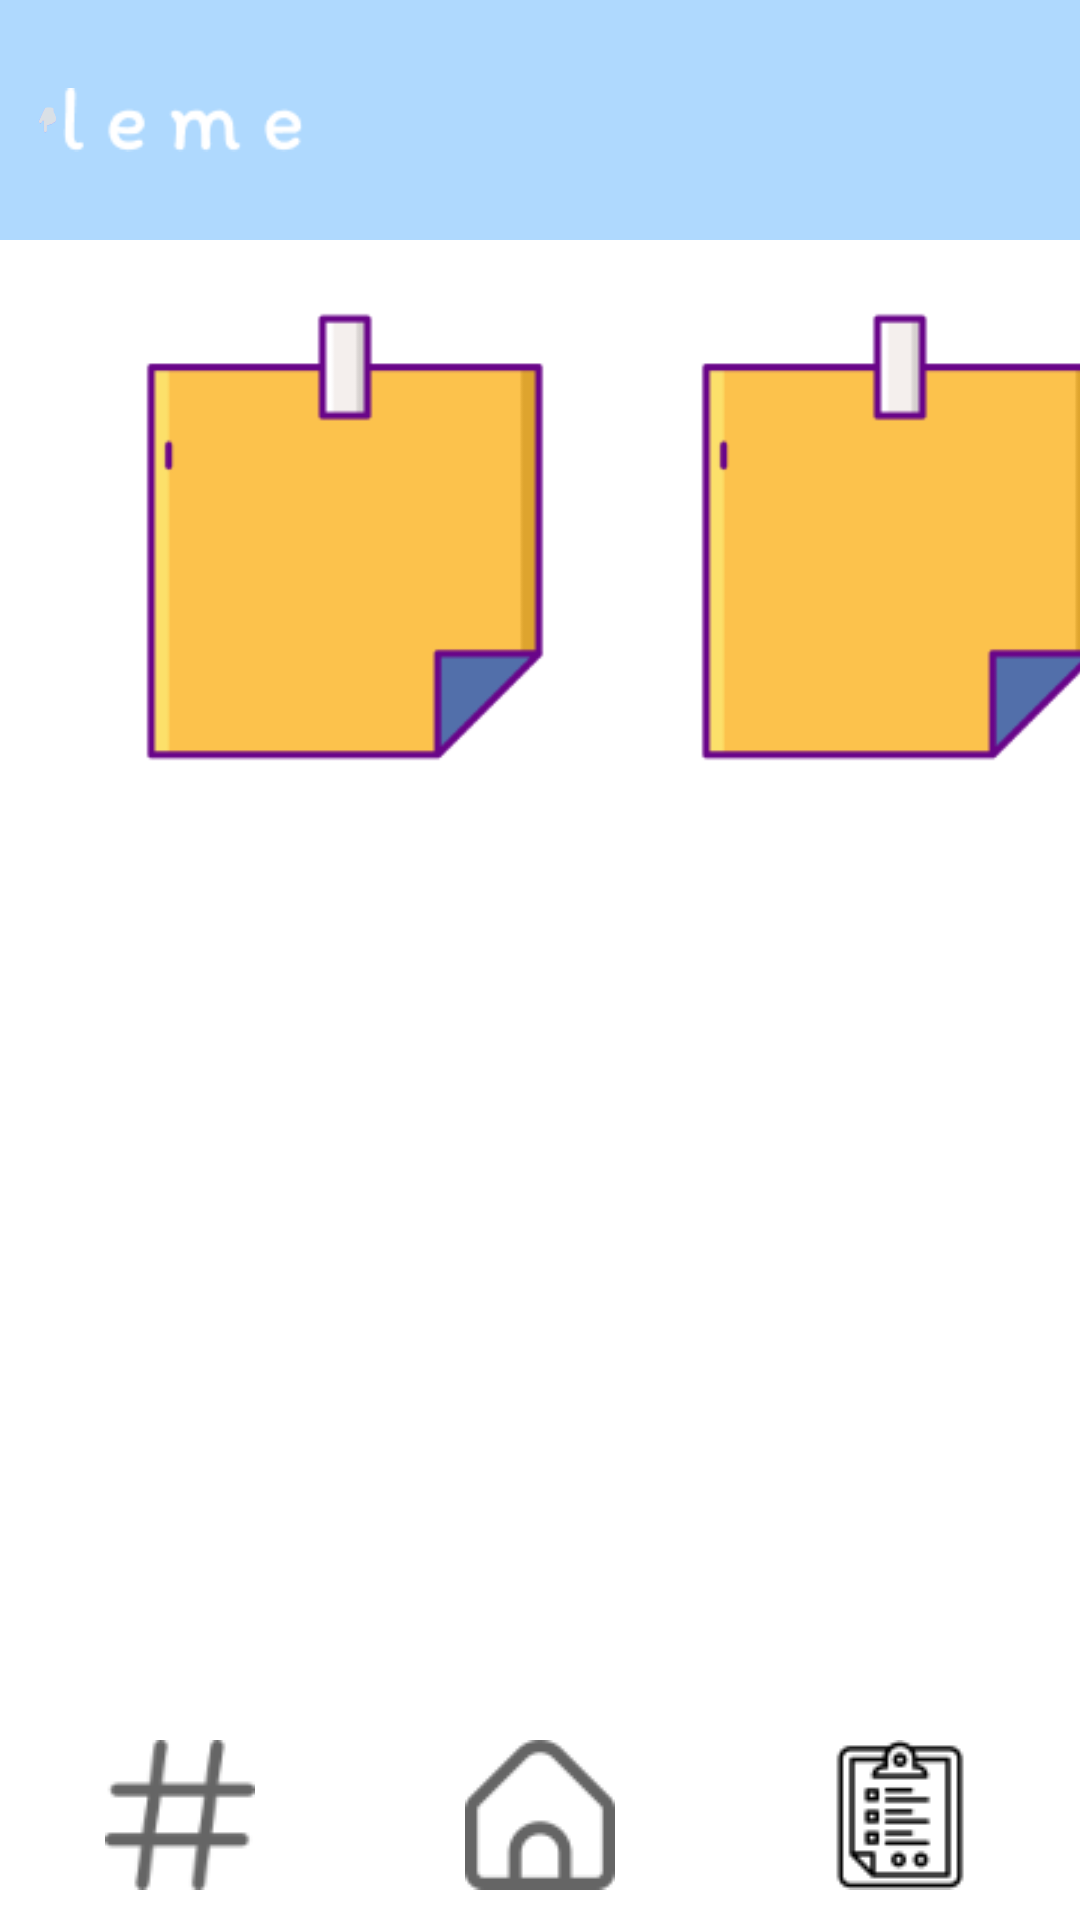

Point at icon controls on the screen. Image size 1080 × 1920, points as (x=x, y=y).
board: (x=900, y=1815)
home: (x=540, y=1815)
